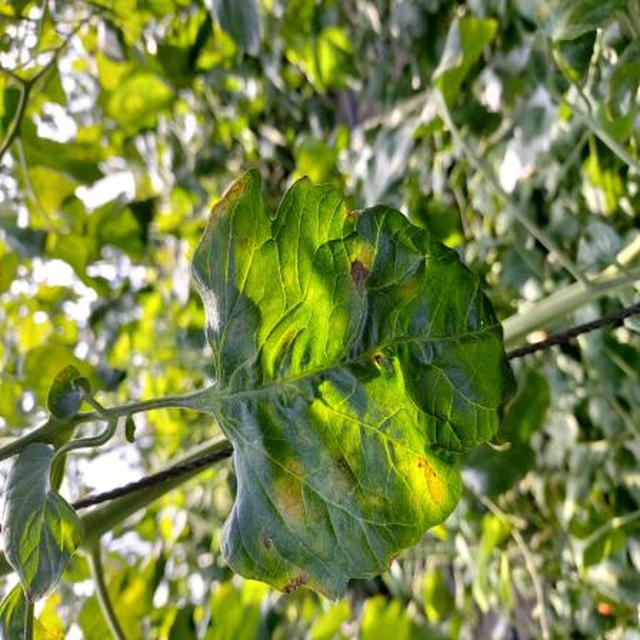Leaf Mold: (274, 243, 640, 640)
